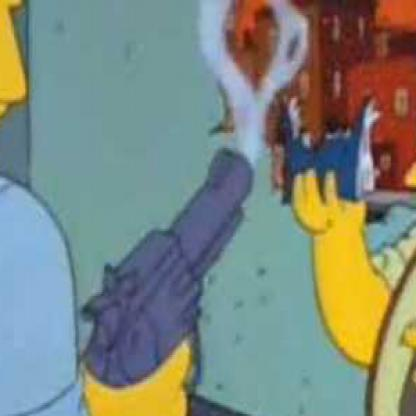gun: (69, 131, 262, 414)
